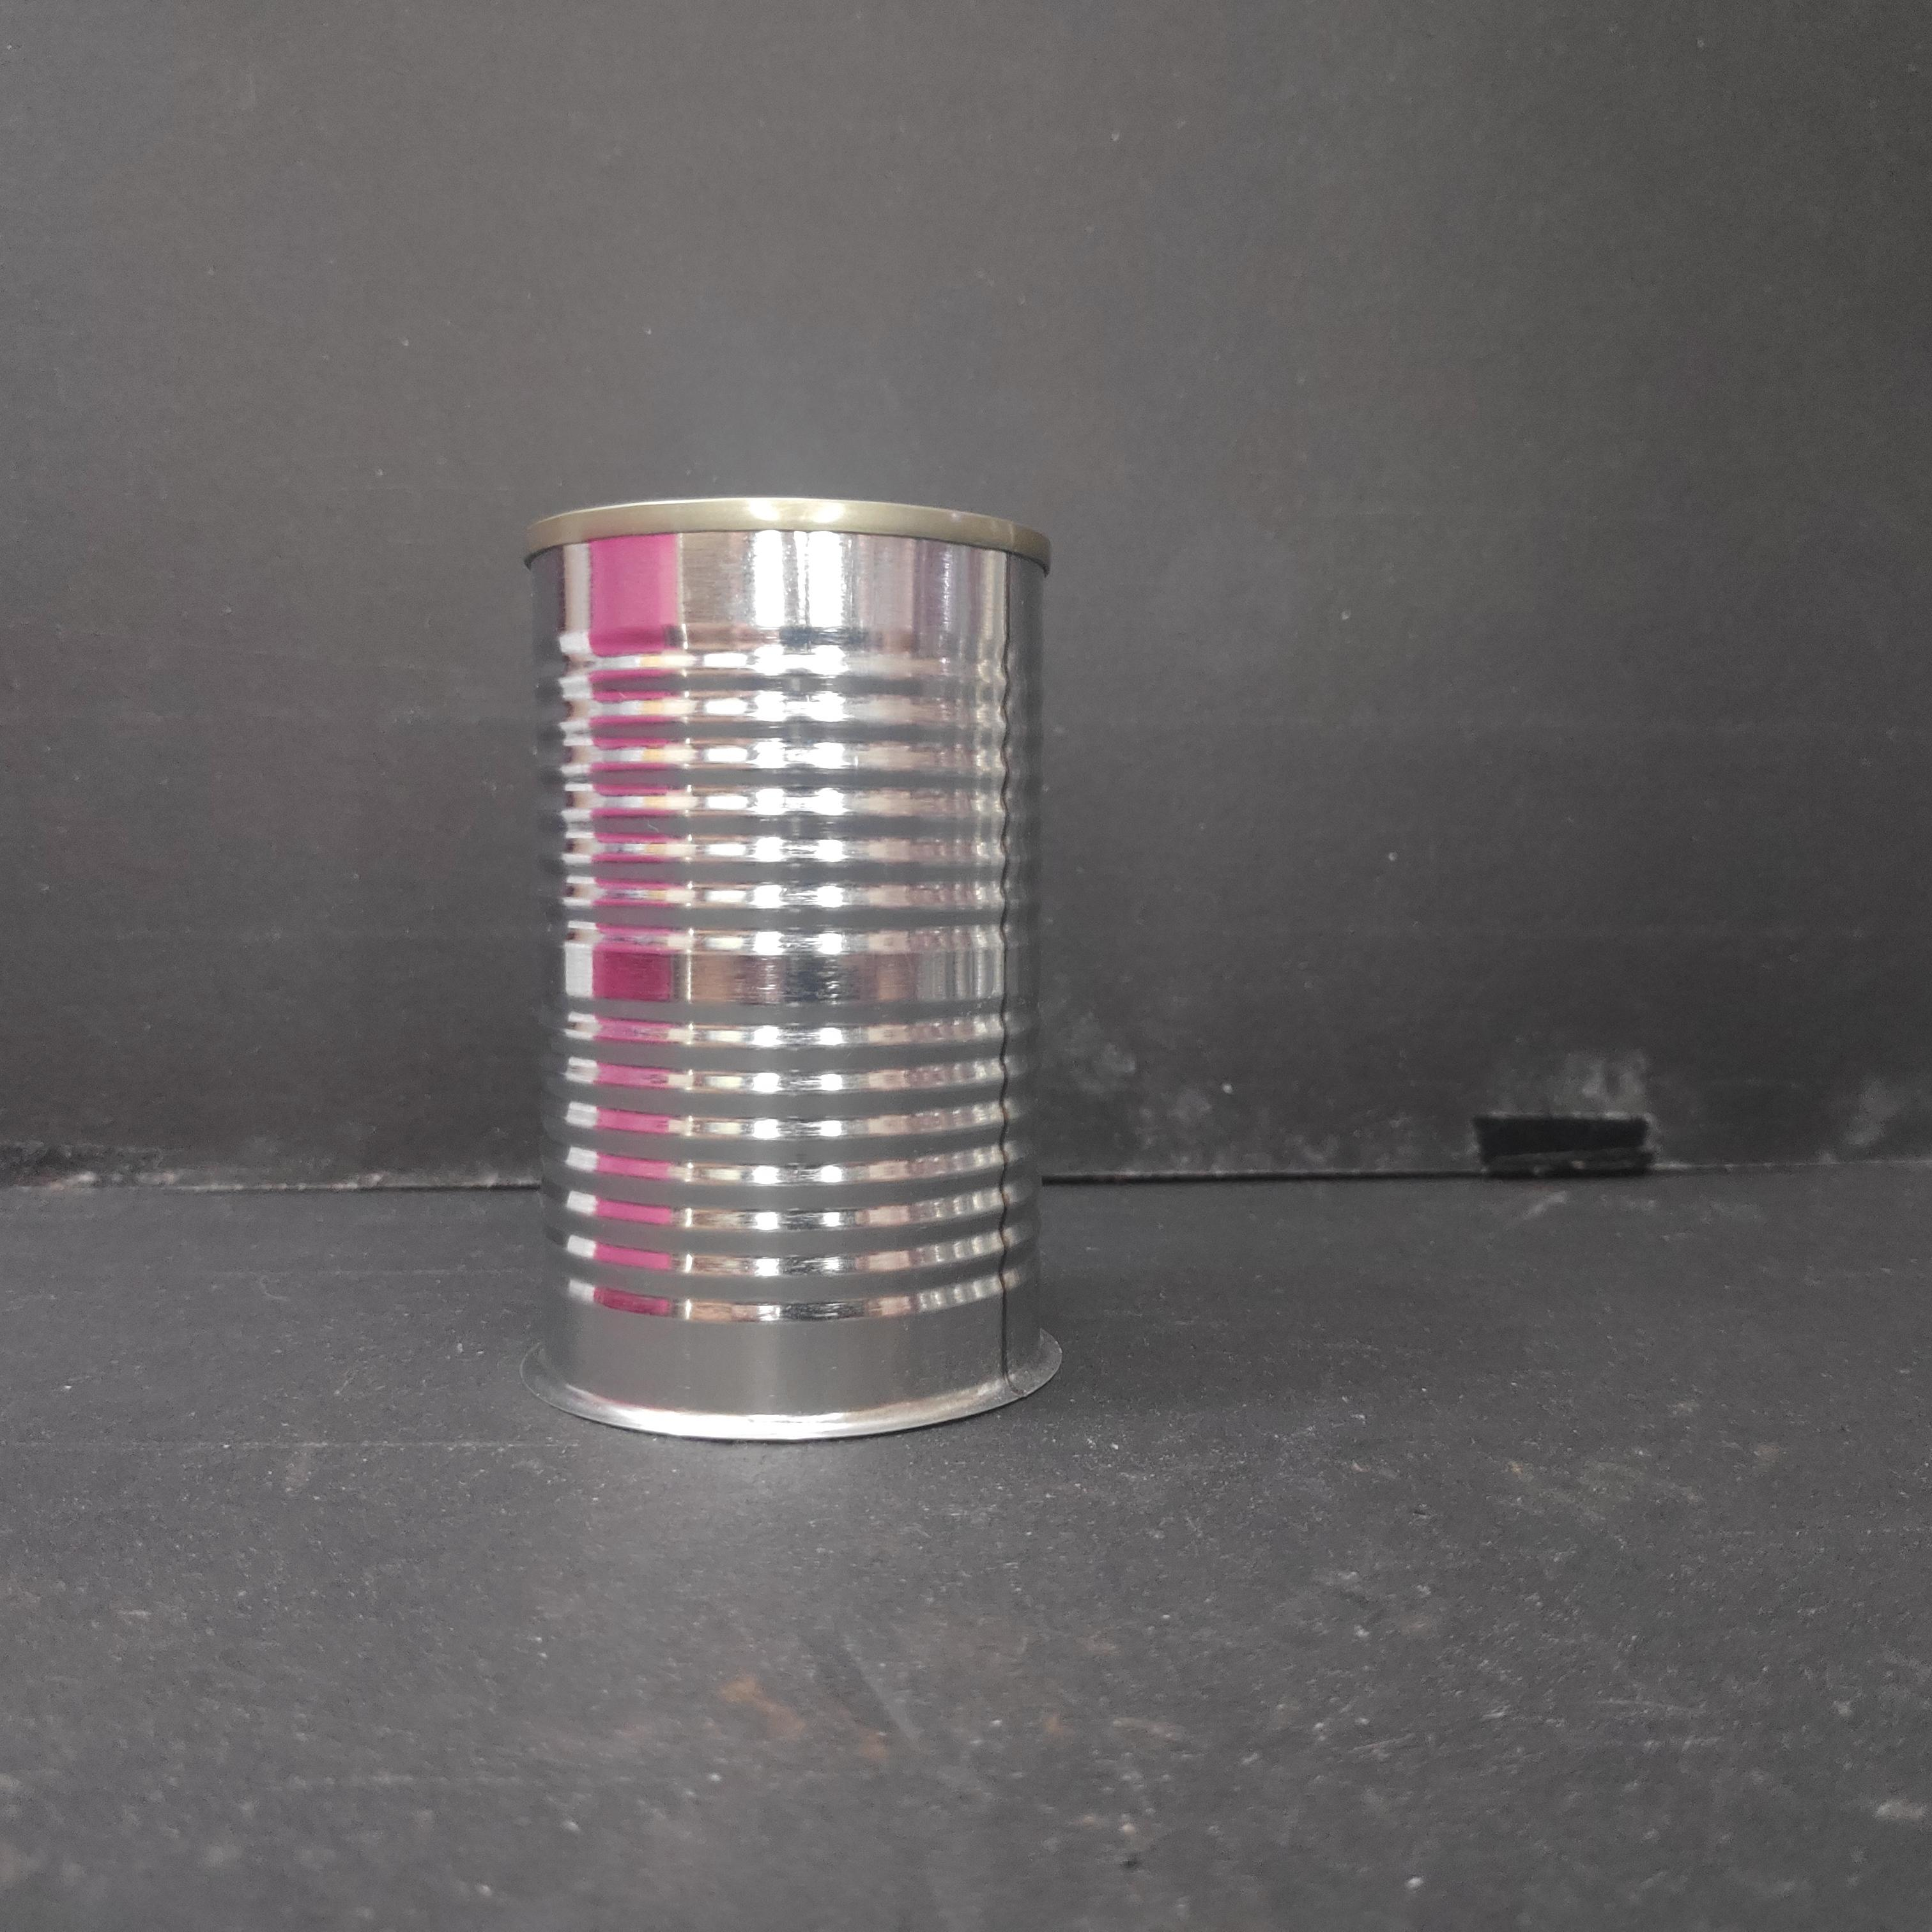No defect: (519, 495, 1070, 1443)
